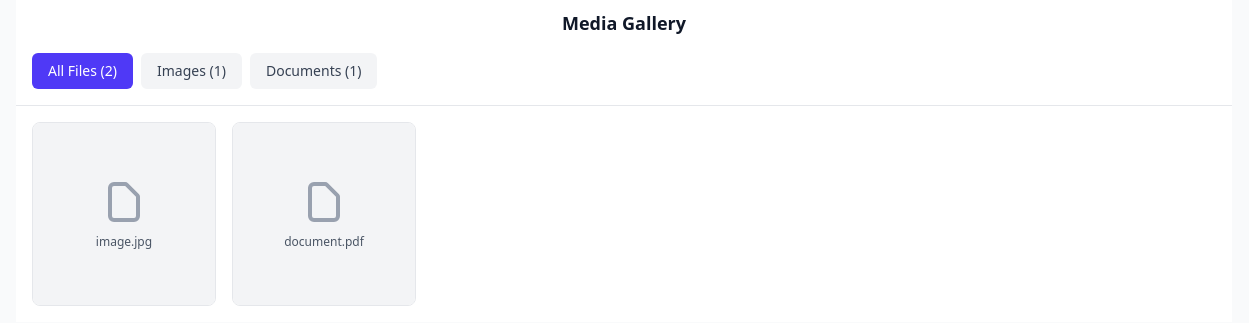
Test: MediaGallery Component › Type filtering › should show all files when All Files filter is selected
First click Documents
Click the tab "Documents (1)" at {"x": 314, "y": 71}, box [250, 53, 377, 89]
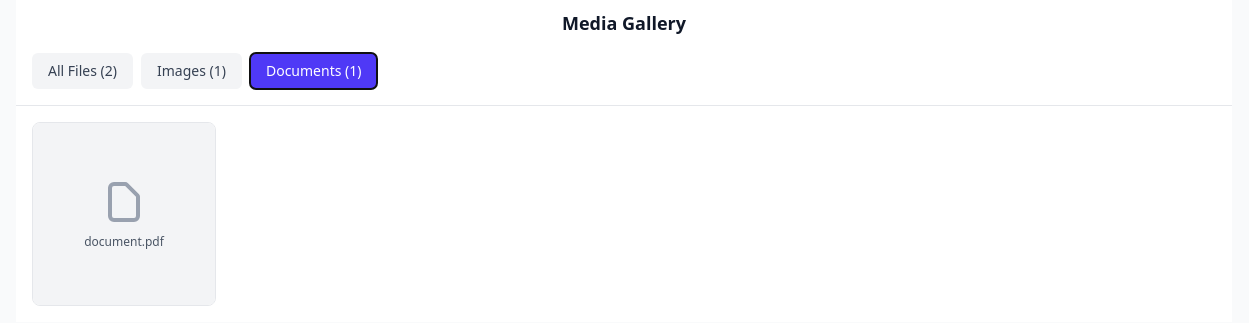
Now the number of list items is 1, box [32, 122, 216, 306]
Then click All Files
Click the tab "All Files (2)" at {"x": 82, "y": 71}, box [32, 53, 133, 89]
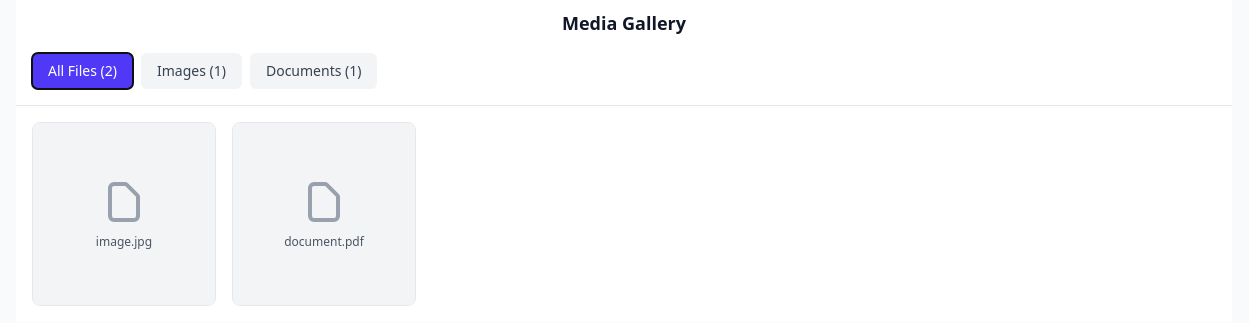
Now the number of list items is 2, box [32, 122, 216, 306]; [232, 122, 416, 306]
